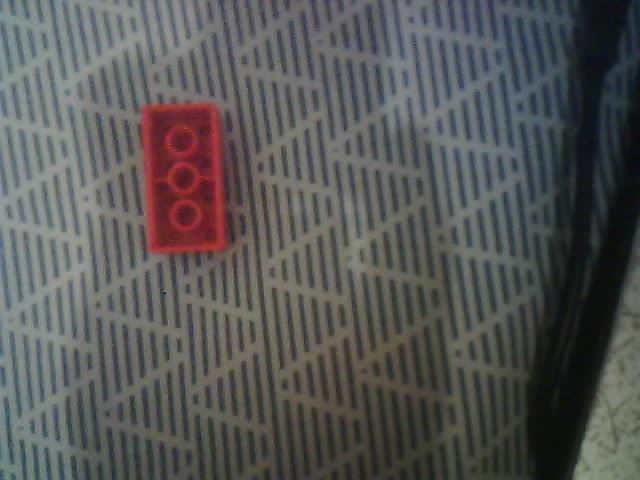lego: (141, 101, 230, 254)
